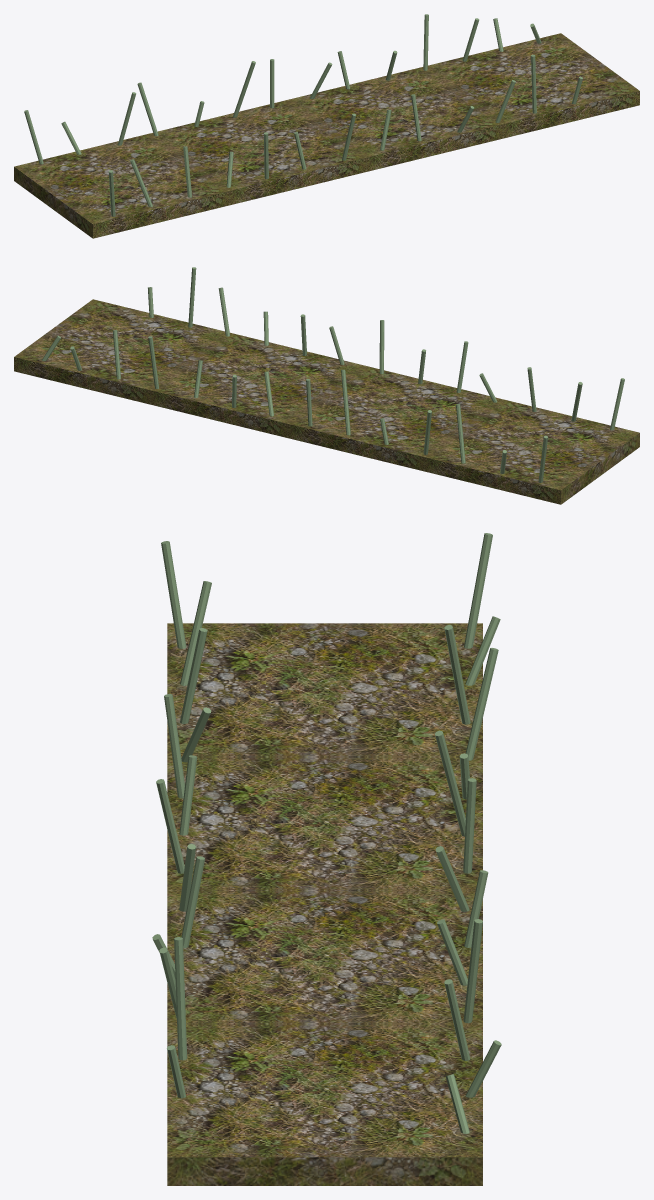
The model's file is hof_grasrand_4m.glb.
The picture shows the model from 3 angles, top to bottom: view 1: azimuth 30°, elevation 25°; view 2: azimuth 150°, elevation 25°; view 3: azimuth 270°, elevation 25°; orthographic projection. The views are drawn at different scales.
Parts seen in each view (by area): view 1: hof_grasrand_4m_000; view 2: hof_grasrand_4m_000; view 3: hof_grasrand_4m_000, hof_grasrand_4m_026, hof_grasrand_4m_001, hof_grasrand_4m_004, hof_grasrand_4m_015, hof_grasrand_4m_011, hof_grasrand_4m_019, hof_grasrand_4m_003, hof_grasrand_4m_006, hof_grasrand_4m_016, hof_grasrand_4m_007, hof_grasrand_4m_017.
Part boxes in pixels (left/top/right/bottom): hof_grasrand_4m_000: left=14, top=33, right=639, bottom=238; hof_grasrand_4m_000: left=14, top=299, right=639, bottom=504; hof_grasrand_4m_000: left=167, top=623, right=482, bottom=1185; hof_grasrand_4m_026: left=174, top=937, right=187, bottom=1060; hof_grasrand_4m_001: left=464, top=533, right=492, bottom=648; hof_grasrand_4m_004: left=465, top=648, right=498, bottom=760; hof_grasrand_4m_015: left=161, top=541, right=186, bottom=648; hof_grasrand_4m_011: left=463, top=919, right=482, bottom=1023; hof_grasrand_4m_019: left=164, top=694, right=184, bottom=798; hof_grasrand_4m_003: left=444, top=625, right=470, bottom=724; hof_grasrand_4m_006: left=435, top=730, right=465, bottom=836; hof_grasrand_4m_016: left=180, top=581, right=211, bottom=685; hof_grasrand_4m_007: left=463, top=778, right=476, bottom=873; hof_grasrand_4m_017: left=180, top=628, right=207, bottom=723.
Bounding box in the file's own units: 4 × 0.5103 × 1.11.
Materials: 1 (1 with a texture image).
